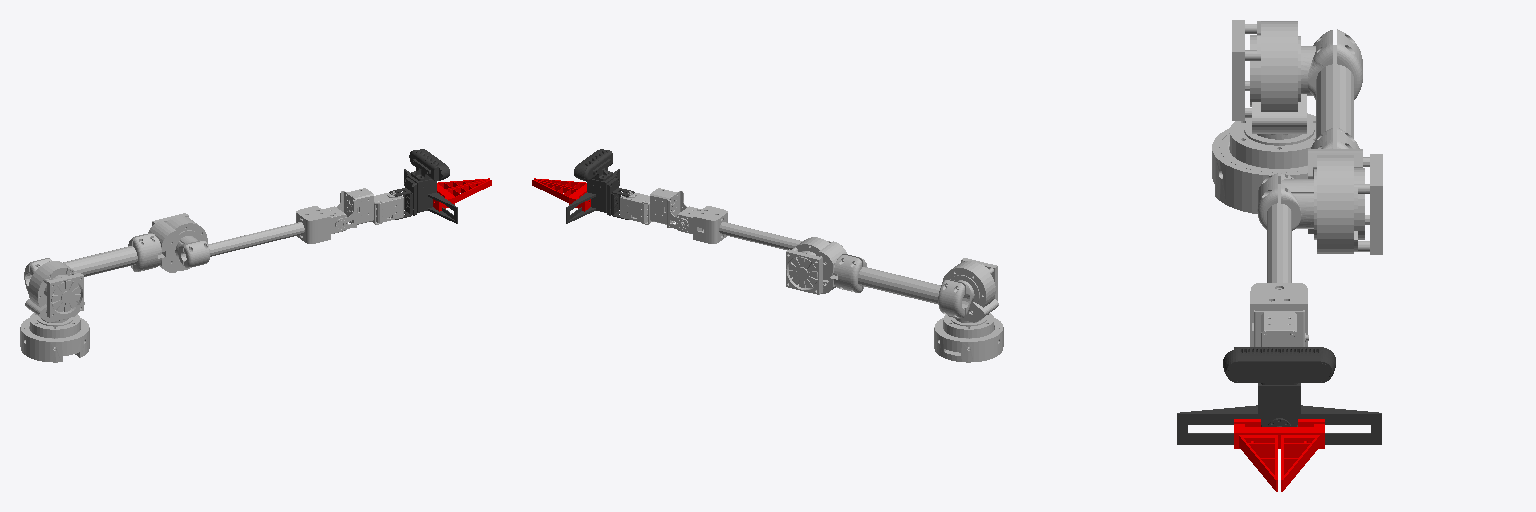
URDF robot description (st_arm):
<?xml version="1.0" encoding="utf-8"?>

<robot name="st_arm">

  <link name="base_link">
    <inertial>
      <origin xyz="3.42763889139344E-10 0.000333900859339166 0.0310722985931785" rpy="0 0 0" />
      <mass value="0.594687468826075" />
      <inertia
        ixx="0.00033121805268079"   
        ixy="-4.35299202159853E-13" iyy="0.000348337167012716"
        ixz="1.5306818843163E-12"   iyz="2.26266159914787E-06" izz="0.000569437102715373" />
    </inertial>
    <visual>
      <origin
        xyz="0 0 0"
        rpy="0 0 0" />
      <geometry>
        <mesh
          filename="package://st_arm_description/meshes/stl/base_link.STL" />
      </geometry>
      <material
        name="">
        <color
          rgba="0.752941176470588 0.752941176470588 0.752941176470588 1" />
      </material>
    </visual>
    <!--
    <collision>
      <origin
        xyz="0 0 0"
        rpy="0 0 0" />
      <geometry>
        <mesh
          filename="package://st_arm_description/meshes/stl/base_link.STL" />
      </geometry>
    </collision>
    -->
  </link>
  
  <!--
  <joint name='world_joint' type='fixed'>
    <child>base_link</child>
    <parent>world</parent>
    <axis>
      <xyz>0 0 0</xyz>
      <limit>
        <lower>-1e+16</lower>
        <upper>1e+16</upper>
      </limit>
      <dynamics>
        <spring_reference>0</spring_reference>
        <spring_stiffness>0</spring_stiffness>
      </dynamics>
      <use_parent_model_frame>1</use_parent_model_frame>
    </axis>      
  </joint>
  -->
  <!---->
  <link name="shoulder_yaw_link">
    <inertial>
      <origin xyz="7.62380313221452E-05 -0.00199452460559476 0.0999832145397144" rpy="0 0 0" />
      <mass value="0.552307334689627" />
      <inertia
        ixx="0.000249125822592326" 
        ixy="8.29800383614982E-07" iyy="0.000406785094181923"
        ixz="4.85170850516518E-07" iyz="2.59356420474465E-07" izz="0.000263428583195006" />
    </inertial>
    <visual>
      <origin
        xyz="0 0 0"
        rpy="0 0 0" />
      <geometry>
        <mesh
          filename="package://st_arm_description/meshes/stl/shoulder_yaw_link.STL" />
      </geometry>
      <material
        name="">
        <color
          rgba="0.752941176470588 0.752941176470588 0.752941176470588 1" />
      </material>
    </visual>
    <!--
    <collision>
      <origin
        xyz="0 0 0"
        rpy="0 0 0" />
      <geometry>
        <mesh
          filename="package://st_arm_description/meshes/stl/shoulder_yaw_link.STL" />
      </geometry>
    </collision>
    -->
  </link>

  <joint name="shoulder_yaw_joint"  type="revolute">
    <origin
      xyz="0 0 0"
      rpy="0 0 0" />
    <parent link="base_link" />
    <child  link="shoulder_yaw_link" />
    <axis
      xyz="0 0 1" />
    <limit
      lower="-3.14"
      upper="3.14"
      effort="1"
      velocity="1" />
    <dynamics
      damping="0.1"
      friction="0.1" />
  </joint>

  <link name="shoulder_pitch_link">
    <inertial>
      <origin xyz="0.222041673337002 0.0457365567993367 -1.61015178481994E-07" rpy="0 0 0" />
      <mass value="0.653267805710522" />
      <inertia 
        ixx="0.000286326347218802" 
        ixy="-1.49184297706474E-07" iyy="0.000648405054695329" 
        ixz="-1.16084442264686E-10" iyz="-1.03191840644746E-10" izz="0.000486228354734812" />
       
    </inertial>
    <visual>
      <origin
        xyz="0 0 0"
        rpy="0 0 0" />
      <geometry>
        <mesh
          filename="package://st_arm_description/meshes/stl/shoulder_pitch_link.STL" />
      </geometry>
      <material
        name="">
        <color
          rgba="0.752941176470588 0.752941176470588 0.752941176470588 1" />
      </material>
    </visual>
    <!--
    <collision>
      <origin
        xyz="0 0 0"
        rpy="0 0 0" />
      <geometry>
        <mesh
          filename="package://st_arm_description/meshes/stl/shoulder_pitch_link.STL" />
      </geometry>
    </collision>
    -->
  </link>

  <joint name="shoulder_pitch_joint"  type="revolute">
    <origin
      xyz="0 0 0.1019"
      rpy="0 0 0" />
    <parent
      link="shoulder_yaw_link" />
    <child
      link="shoulder_pitch_link" />
    <axis
      xyz="0 1 0" />
    <limit
      lower="-3.9"
      upper="0.76"
      effort="1"
      velocity="1" />
    <dynamics
      damping="0.1"
      friction="0.1" />
  </joint>

  <link name="elbow_pitch_link">
    <inertial>
      <origin xyz="0.170444738305821 0.00120918087086364 4.80993232019056E-05"
        rpy="0 0 0" />
      <mass value="0.170291975194639" />
      <inertia 
        ixx="3.02042222407698E-05" 
        ixy="-6.35246878390523E-08" iyy="0.000198777906290856"
        ixz="-2.342424762705E-10" iyz="-1.09090281580559E-10" izz="0.000200817831889362" />
    </inertial>
    <visual>
      <origin
        xyz="0 0 0"
        rpy="0 0 0" />
      <geometry>
        <mesh
          filename="package://st_arm_description/meshes/stl/elbow_pitch_link.STL" />
      </geometry>
      <material
        name="">
        <color
          rgba="0.752941176470588 0.752941176470588 0.752941176470588 1" />
      </material>
    </visual>
    <!--
    <collision>
      <origin
        xyz="0 0 0"
        rpy="0 0 0" />
      <geometry>
        <mesh
          filename="package://st_arm_description/meshes/stl/elbow_pitch_link.STL" />
      </geometry>
    </collision>
    -->
  </link>

  <joint name="elbow_pitch_joint"  type="revolute">
    <origin
      xyz="0.25 0 0"
      rpy="0 0 0" />
    <parent
      link="shoulder_pitch_link" />
    <child
      link="elbow_pitch_link" />
    <axis
      xyz="0 1 0" />
    <limit
      lower="-2.9"
      upper="2.9"
      effort="1"
      velocity="1" />
    <dynamics
      damping="0.1"
      friction="0.1" />
  </joint>

  <link  name="wrist_pitch_link">
    <inertial>
      <origin xyz="0.0427858940182061 -1.07794398136307E-12 0.0113299623932117" rpy="0 0 0" />
      <mass value="0.0923460959053665" />
      <inertia
        ixx="2.36445924797382E-05"  
        ixy="2.03858506919348E-14"  iyy="2.44308045383496E-05" 
        ixz="-3.88711143279157E-07" iyz="1.60956216622028E-14" izz="1.61389593694291E-05" />
    </inertial>
    
    <visual>
      <origin
        xyz="0 0 0"
        rpy="0 0 0" />
      <geometry>
        <mesh
          filename="package://st_arm_description/meshes/stl/wrist_pitch_link.STL" />
      </geometry>
      <material
        name="">
        <color
          rgba="0.752941176470588 0.752941176470588 0.752941176470588 1" />
      </material>
    </visual>
    <!--
    <collision>
      <origin
        xyz="0 0 0"
        rpy="0 0 0" />
      <geometry>
        <mesh
          filename="package://st_arm_description/meshes/stl/wrist_pitch_link.STL" />
      </geometry>
    </collision>
    -->
  </link>

  <joint  name="wrist_pitch_joint"  type="revolute">
    <origin
      xyz="0.25 0 0"
      rpy="0 0 0" />
    <parent
      link="elbow_pitch_link" />
    <child
      link="wrist_pitch_link" />
    <axis
      xyz="0 1 0" />
    <limit
      lower="-1.57"
      upper="1.57"
      effort="1"
      velocity="1" />
    <dynamics
      damping="0.1"
      friction="0.1" />
  </joint>

  <link  name="wrist_roll_link">
    <inertial>
      <origin  xyz="0.0913748969710125 6.88049080601119E-12 0.000361964169878382"  rpy="0 0 0" />
      <mass  value="0.0869629421685106" />
      <inertia
        ixx="1.4181205833875E-05"  ixy="-9.5763914944462E-15"  ixz="2.92507153176442E-09"
                                   iyy="2.29932833535925E-05"  iyz="1.70365869270755E-16"
                                                               izz="1.96710122979677E-05" />
    </inertial>
    <visual>
      <origin
        xyz="0 0 0"
        rpy="0 0 0" />
      <geometry>
        <mesh
          filename="package://st_arm_description/meshes/stl/wrist_roll_link.STL" />
      </geometry>
      <material
        name="">
        <color
          rgba="0.752941176470588 0.752941176470588 0.752941176470588 1" />
      </material>
    </visual>
    <!--
    <collision>
      <origin
        xyz="0 0 0"
        rpy="0 0 0" />
      <geometry>
        <mesh
          filename="package://st_arm_description/meshes/stl/wrist_roll_link.STL" />
      </geometry>
    </collision>
    -->
  </link>

  <joint  name="wrist_roll_joint"  type="revolute">
    <origin
      xyz="0 0 0"
      rpy="0 0 0" />
    <parent
      link="wrist_pitch_link" />
    <child
      link="wrist_roll_link" />
    <axis
      xyz="1 0 0" />
    <limit
      lower="-1.57"
      upper="1.57"
      effort="1"
      velocity="1" />
    <dynamics
      damping="0.1"
      friction="0.1" />
  </joint>

  <link  name="wrist_yaw_link">
    <inertial>
      <origin  xyz="0.0521081908517804 0.000347863675501595 0.0221849641881863"  rpy="0 0 0" />
      <mass  value="0.148763165360562" />
      <inertia
        ixx="6.90068081268683E-05"  ixy="2.51081810291003E-07"  ixz="4.81484924088221E-07"
                                    iyy="3.34790199859609E-05"  iyz="-1.73103830643691E-09"
                                                                izz="5.62471064308066E-05" />
    </inertial>
    
    <visual>
      <origin
        xyz="0 0 0"
        rpy="0 0 0" />
      <geometry>
        <mesh
          filename="package://st_arm_description/meshes/stl/wrist_yaw_link.STL" />
      </geometry>
      <material
        name="">
        <color
          rgba="0.298039215686275 0.298039215686275 0.298039215686275 1" />
      </material>
    </visual>
    <!--
    <collision>
      <origin
        xyz="0 0 0"
        rpy="0 0 0" />
      <geometry>
        <mesh
          filename="package://st_arm_description/meshes/stl/wrist_yaw_link.STL" />
      </geometry>
    </collision>
    -->
  </link>

  <joint  name="wrist_yaw_joint"  type="revolute">
    <origin
      xyz="0.1045 0 0"
      rpy="0 0 0" />
    <parent
      link="wrist_roll_link" />
    <child
      link="wrist_yaw_link" />
    <axis
      xyz="0 0 1" />
    <limit
      lower="-2"
      upper="2"
      effort="1"
      velocity="1" />
    <dynamics
      damping="0.1"
      friction="0.1" />
  </joint>

  <link  name="gripper_right_link">
    <inertial>
      <origin  xyz="1.0E-16 1.0E-16 1.0E-16"  rpy="0 0 0" />
      <mass  value="0.0001" />
      <inertia
        ixx="1.0E-16"  ixy="1.0E-16"  ixz="1.0E-16"
        iyy="1.0E-16"  iyz="1.0E-16"
        izz="1.0E-16" />
    </inertial>
    <visual>
      <origin
        xyz="0 0 0"
        rpy="0 0 0" />
      <geometry>
        <mesh
          filename="package://st_arm_description/meshes/stl/gripper_right_link.STL" />
      </geometry>
      <material
        name="">
        <color
          rgba="1 0 0 1" />
      </material>
    </visual>
    <collision>
      <origin
        xyz="0 0 0"
        rpy="0 0 0" />
      <geometry>
        <mesh
          filename="package://st_arm_description/meshes/stl/gripper_right_link.STL" />
      </geometry>
    </collision>
  </link>

  <joint  name="gripper_right_joint"  type="prismatic">
    <origin
      xyz="0.083595 0 0"
      rpy="0 0 0" />
    <parent
      link="wrist_yaw_link" />
    <child
      link="gripper_right_link" />
    <axis
      xyz="0 1 0" />
    <limit
      lower="-0.03"
      upper="0"
      effort="1"
      velocity="1" />
    <dynamics
      damping="0.1"
      friction="0.1" />
  </joint>

  <link name="gripper_left_link">
    <inertial>
      <origin  xyz="1.0E-16 1.0E-16 1.0E-16"  rpy="0 0 0" />
      <mass  value="0.0001" />
      <inertia
        ixx="1.0E-16"  ixy="1.0E-16"  ixz="1.0E-16"
        iyy="1.0E-16"  iyz="1.0E-16"
        izz="1.0E-16" />
    </inertial>
    <visual>
      <origin
        xyz="0 0 0"
        rpy="0 0 0" />
      <geometry>
        <mesh
          filename="package://st_arm_description/meshes/stl/gripper_left_link.STL" />
      </geometry>
      <material
        name="">
        <color
          rgba="1 0 0 1" />
      </material>
    </visual>
    <collision>
      <origin
        xyz="0 0 0"
        rpy="0 0 0" />
      <geometry>
        <mesh
          filename="package://st_arm_description/meshes/stl/gripper_left_link.STL" />
      </geometry>
    </collision>
  </link>

  <joint name="gripper_left_joint" type="prismatic">
    <origin
      xyz="0.083595 0 0"
      rpy="0 0 0" />
    <parent
      link="wrist_yaw_link" />
    <child
      link="gripper_left_link" />
    <axis
      xyz="0 -1 0" />
    <limit
      lower="-0.03"
      upper="0"
      effort="1"
      velocity="1" />
    <dynamics
      damping="0.1"
      friction="0.1" />
  </joint>

</robot>

--- What the picture shows (computed from the rendered views, not written in the file) ---
The picture shows the robot from 3 angles, left to right: view 1: azimuth 30°, elevation 25°; view 2: azimuth 150°, elevation 25°; view 3: azimuth 270°, elevation 25°; orthographic projection.
Robot: st_arm — 9 links, 8 joints (6 revolute, 2 prismatic); root link base_link; default pose: every joint at zero.
Links seen in each view (by area): view 1: shoulder_pitch_link, elbow_pitch_link, shoulder_yaw_link, base_link, wrist_yaw_link, wrist_pitch_link, wrist_roll_link, gripper_right_link; view 2: shoulder_pitch_link, base_link, wrist_yaw_link, elbow_pitch_link, shoulder_yaw_link, wrist_pitch_link, wrist_roll_link, gripper_left_link; view 3: shoulder_pitch_link, wrist_yaw_link, shoulder_yaw_link, elbow_pitch_link, base_link, gripper_left_link, gripper_right_link, wrist_pitch_link.
Boxes of the visible links, <box> form: shoulder_pitch_link: <box>24,213,207,290</box>; elbow_pitch_link: <box>175,206,346,267</box>; shoulder_yaw_link: <box>25,261,84,322</box>; base_link: <box>20,313,89,362</box>; wrist_yaw_link: <box>389,149,457,223</box>; wrist_pitch_link: <box>337,188,373,230</box>; wrist_roll_link: <box>371,191,403,224</box>; gripper_right_link: <box>433,180,491,211</box>; shoulder_pitch_link: <box>786,237,974,317</box>; base_link: <box>934,313,1003,362</box>; wrist_yaw_link: <box>566,149,634,223</box>; elbow_pitch_link: <box>677,206,842,249</box>; shoulder_yaw_link: <box>942,258,998,322</box>; wrist_pitch_link: <box>650,188,686,230</box>; wrist_roll_link: <box>620,191,652,224</box>; gripper_left_link: <box>532,180,590,211</box>; shoulder_pitch_link: <box>1301,29,1382,254</box>; wrist_yaw_link: <box>1177,347,1381,444</box>; shoulder_yaw_link: <box>1232,20,1306,139</box>; elbow_pitch_link: <box>1250,173,1313,346</box>; base_link: <box>1212,113,1315,213</box>; gripper_left_link: <box>1279,419,1324,491</box>; gripper_right_link: <box>1234,419,1278,491</box>; wrist_pitch_link: <box>1254,310,1304,346</box>.
Bounding box of the posed robot: 0.8311 × 0.1629 × 0.1686 m (x, y, z).
Meshes: 9 distinct files referenced, 9 mesh visuals loaded (9 binary STL).